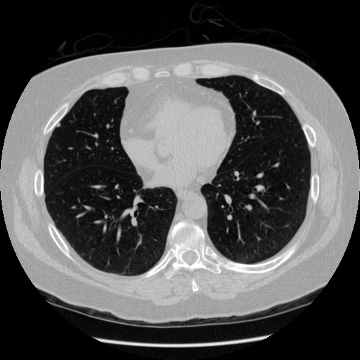nodule: (56, 123, 60, 127)
